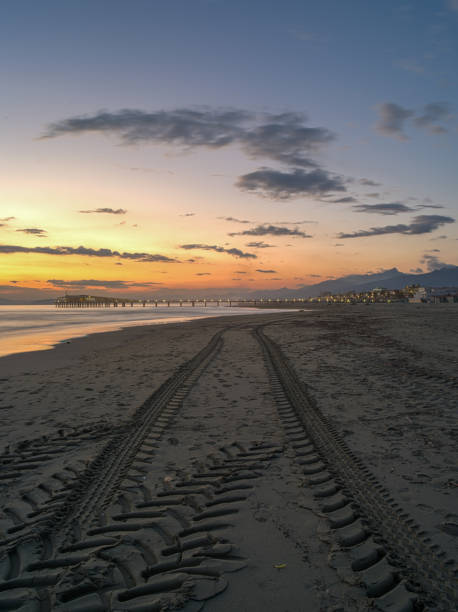vehicle_track: (0, 331, 222, 609), (254, 326, 457, 611)
